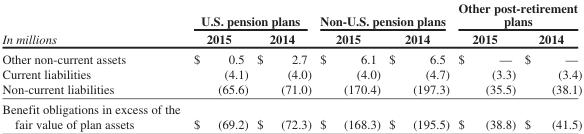table: (1, 0, 581, 131)
table column: (1, 0, 186, 131), (315, 0, 384, 131), (384, 0, 453, 131), (453, 0, 519, 131), (186, 0, 251, 131), (251, 0, 315, 131), (519, 0, 581, 131)
table column header: (1, 0, 581, 48)
table row: (1, 98, 581, 131), (1, 0, 581, 29), (1, 29, 581, 48), (1, 48, 581, 66), (1, 81, 581, 98), (1, 66, 581, 81)
table spanning cell: (1, 0, 186, 48), (315, 0, 453, 29), (186, 0, 315, 29), (453, 0, 581, 29)
